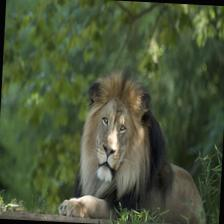lions: (29, 53, 224, 224)
